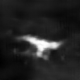plane: (16, 33, 64, 61)
